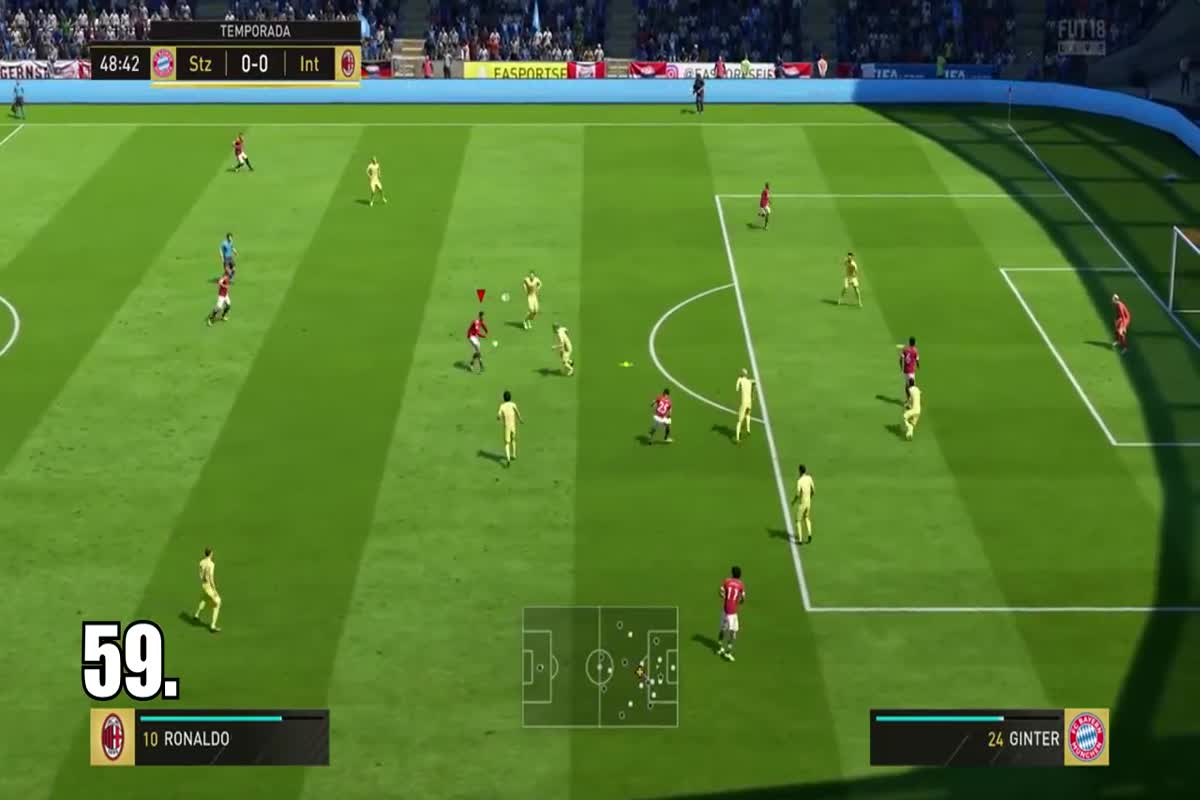ball: (488, 337, 508, 355)
